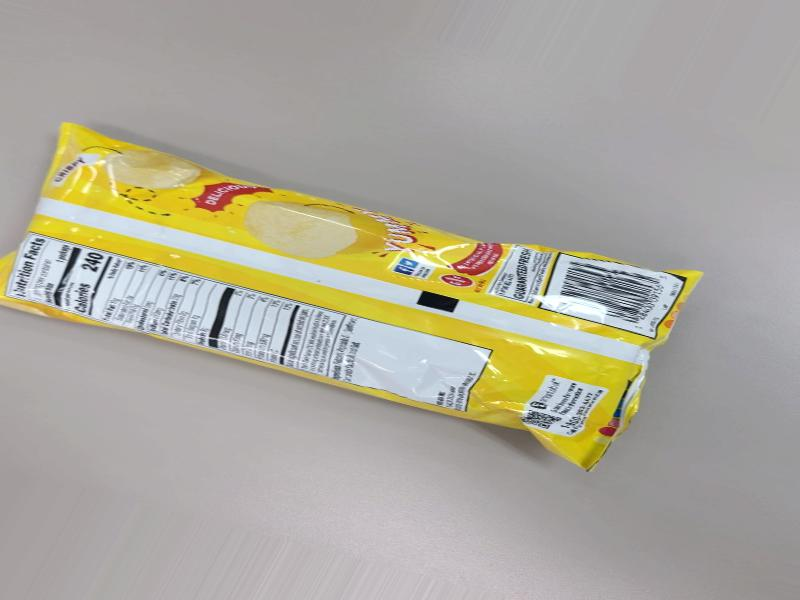lays: (5, 106, 800, 436)
